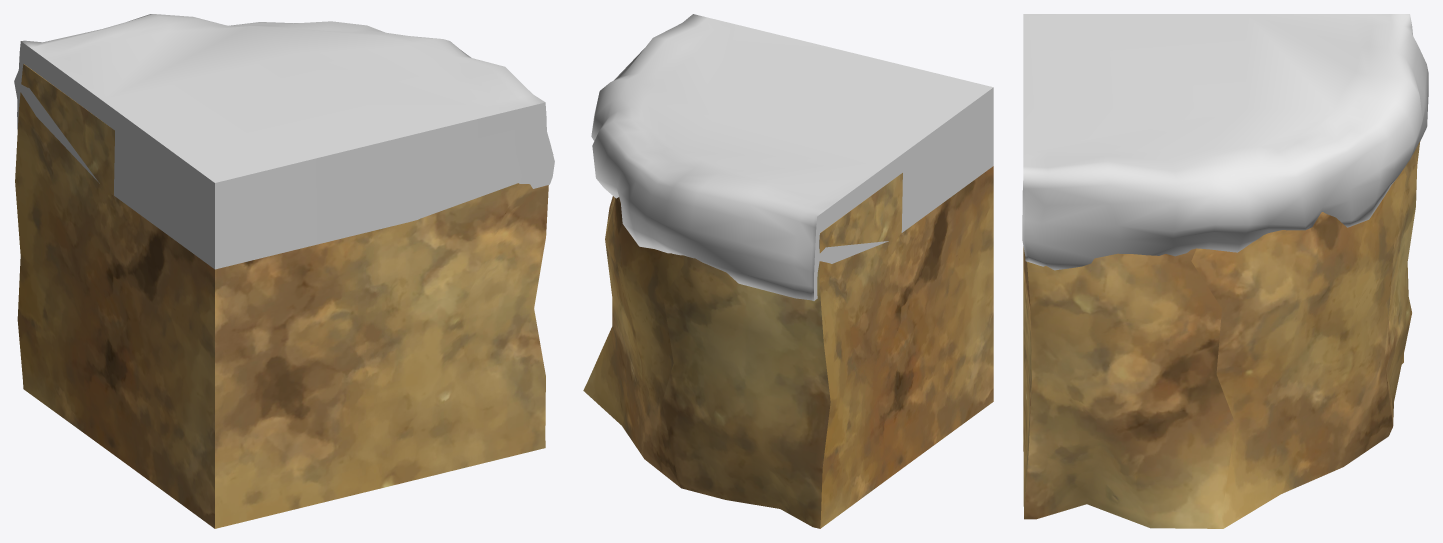
The model's file is DirtSnowEdge.fbx.
3 renders of one model, left to right at view 1: azimuth 30°, elevation 25°; view 2: azimuth 150°, elevation 25°; view 3: azimuth 270°, elevation 25°, orthographic. The views are drawn at different scales.
Visible parts, largest first — view 1: DirtEdge.001, SnowEdge.001; view 2: DirtEdge.001, SnowEdge.001; view 3: DirtEdge.001, SnowEdge.001.
Part boxes in pixels (x1,y1,x2,y2): DirtEdge.001: (15,64,548,528); SnowEdge.001: (14,14,554,269); DirtEdge.001: (583,166,993,528); SnowEdge.001: (591,14,993,300); DirtEdge.001: (1023,141,1420,528); SnowEdge.001: (1022,14,1428,270).
Bounding box in the file's own units: 217 × 204 × 214.
